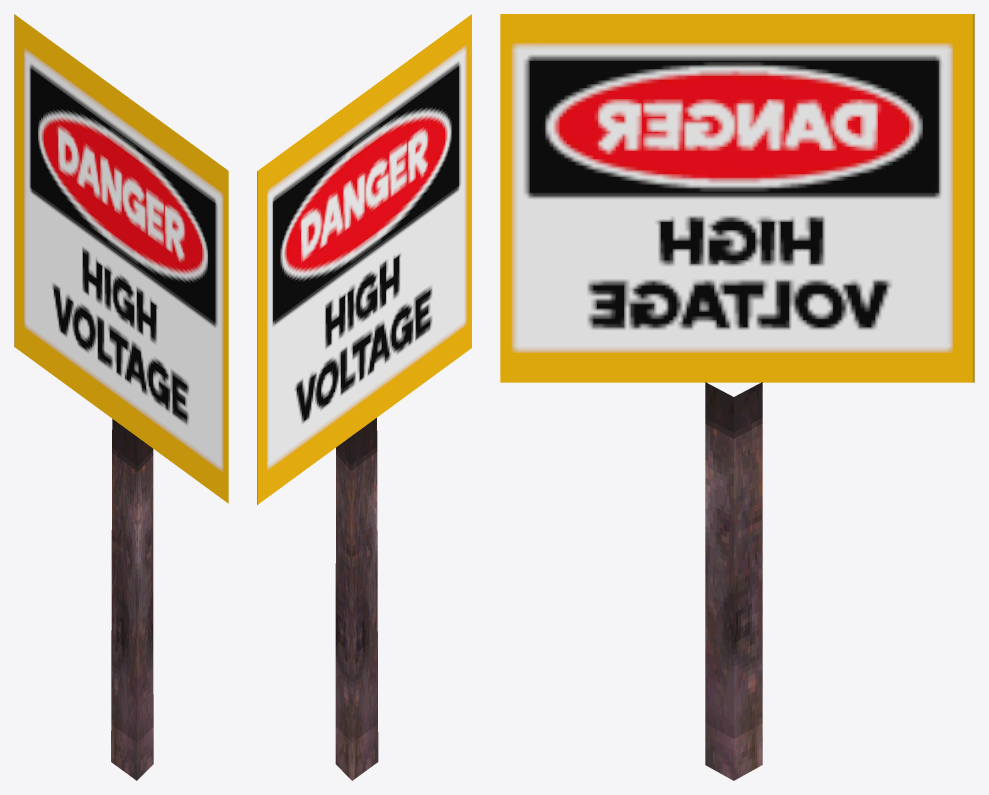
File: signC05.glb
3 renders of one model, left to right at view 1: azimuth 30°, elevation 25°; view 2: azimuth 150°, elevation 25°; view 3: azimuth 270°, elevation 25°, orthographic. The views are drawn at different scales.
Parts seen in each view (by area): view 1: signC05; view 2: signC05; view 3: signC05.
Part boxes in pixels (x1,y1,x2,y2): signC05: (14, 14, 228, 780); signC05: (257, 14, 471, 780); signC05: (500, 14, 974, 780).
Bounding box in the file's own units: 10.97 × 234 × 134.
Materials: 2 (2 with a texture image).
